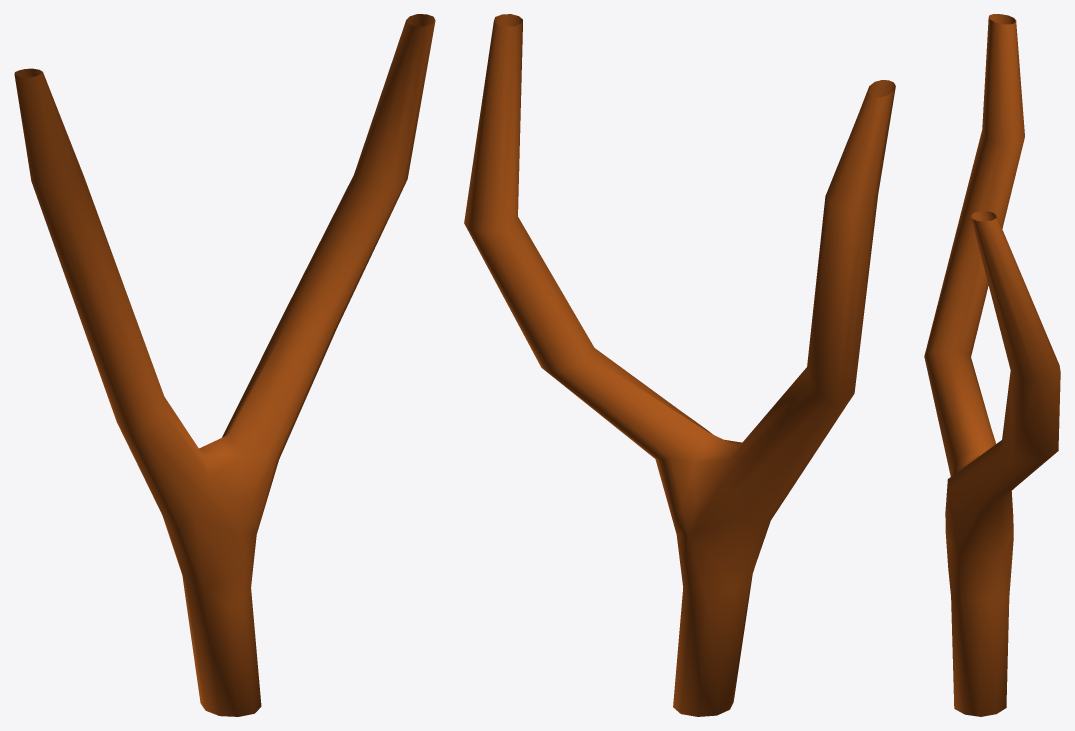
Rendered from TreeTrunk_07.fbx.
The picture shows the model from 3 angles, left to right: view 1: azimuth 30°, elevation 25°; view 2: azimuth 150°, elevation 25°; view 3: azimuth 270°, elevation 25°; orthographic projection. The views are drawn at different scales.
Parts seen in each view (by area): view 1: TreeTrunk_07; view 2: TreeTrunk_07; view 3: TreeTrunk_07.
Boxes of the visible parts, x1,y1,x2,y2 form: TreeTrunk_07: (14,14,435,716); TreeTrunk_07: (464,14,895,716); TreeTrunk_07: (924,14,1060,716).
Size of the model in its own units: 198 by 313 by 64.04.
